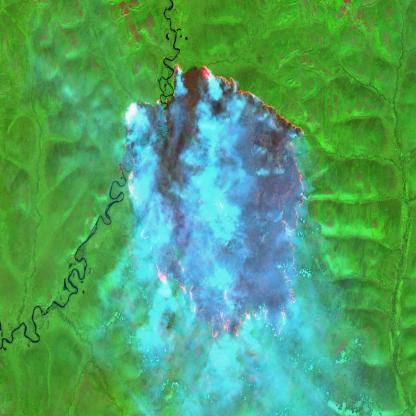fire: (117, 60, 308, 343)
